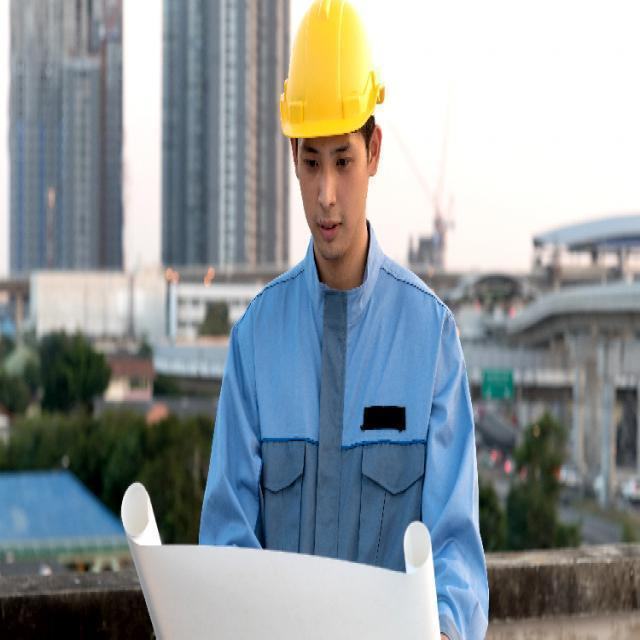No_Goggles: (296, 138, 358, 182)
